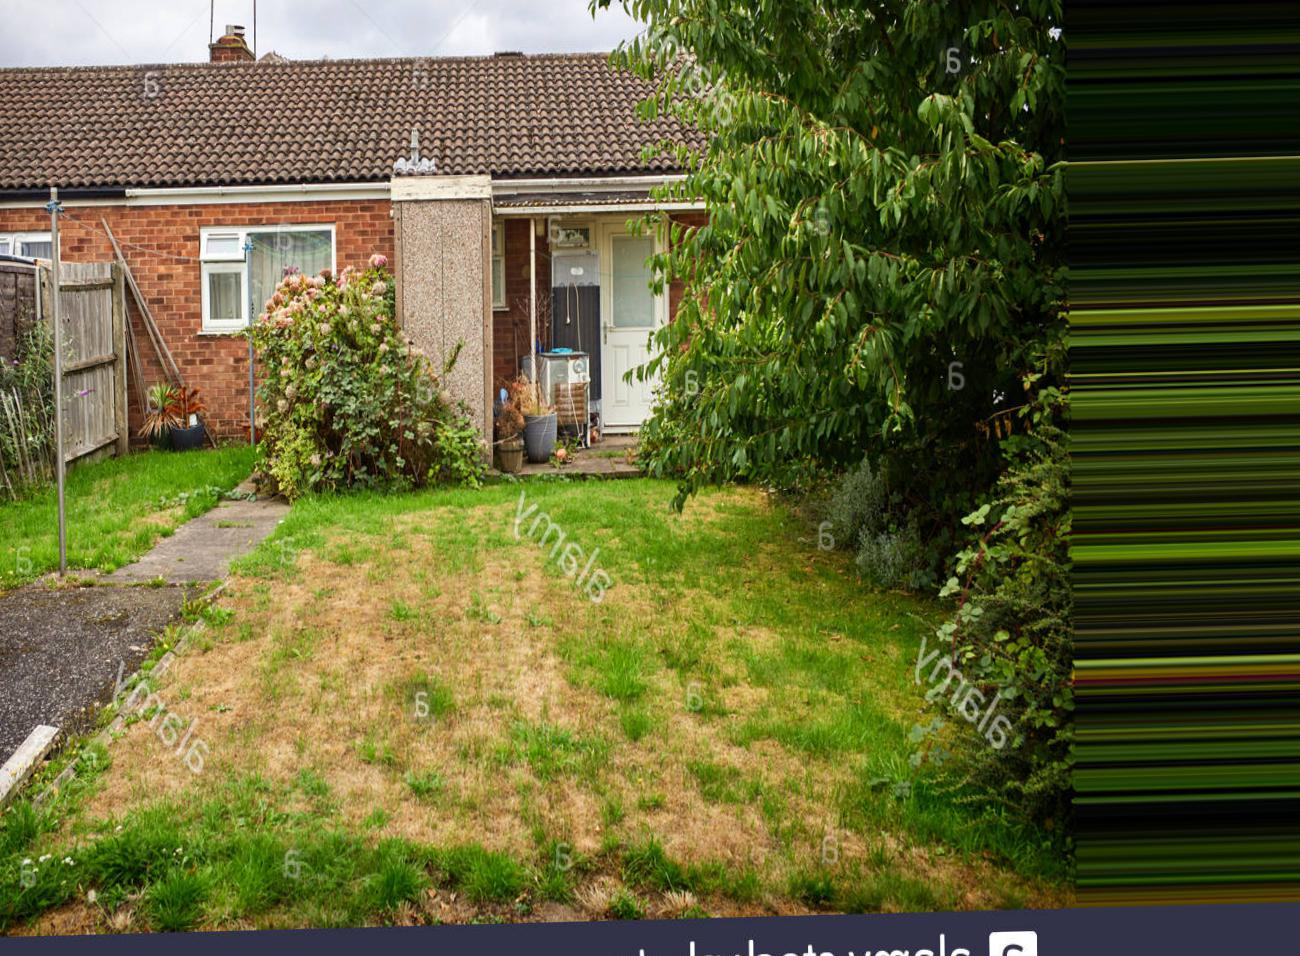patch: (295, 550, 526, 704), (152, 686, 392, 828), (422, 752, 727, 857), (531, 632, 612, 714), (670, 493, 726, 515)
